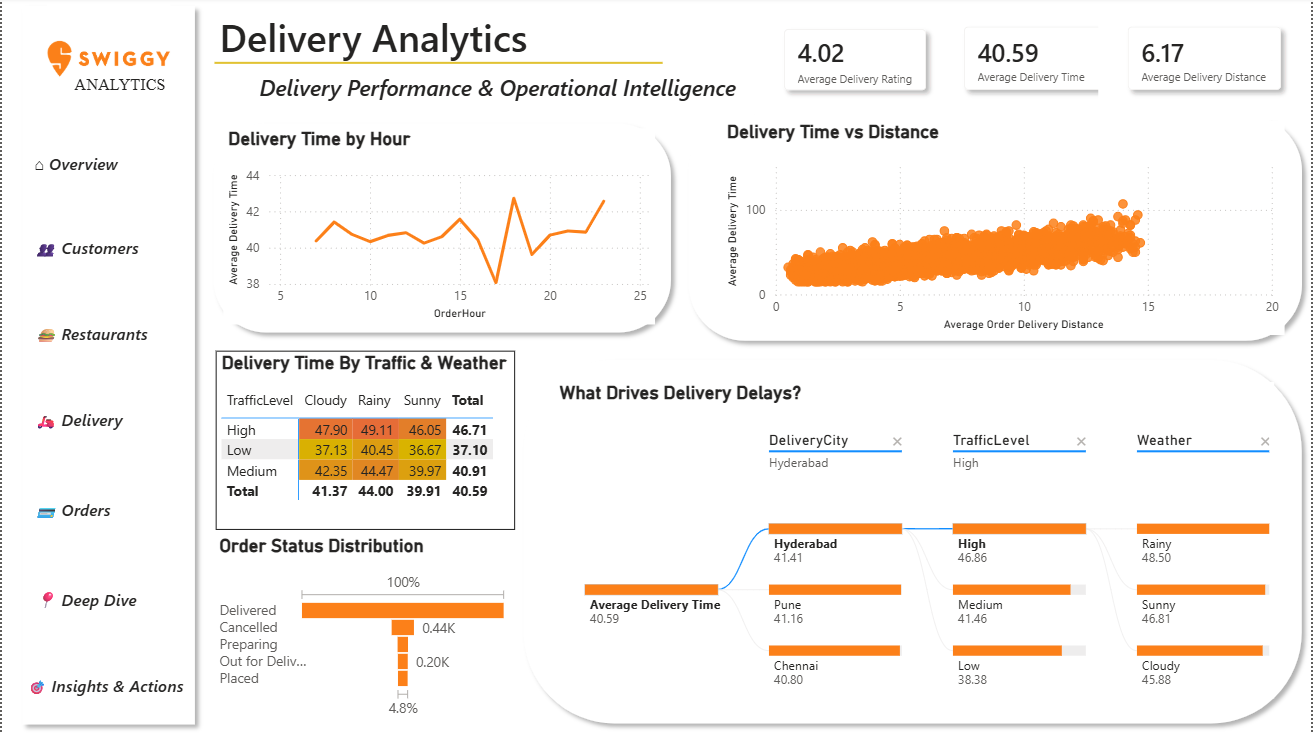

This screenshot's page, from the dashboard's own definition file:
{"tool":"powerbi","page":{"name":"Delivery Analytics","canvas":[1280,720],"ordinal":3},"visuals":[{"type":"shape","box":[501.4,345.8,779.2,373.6],"z":0},{"type":"shape","box":[662.5,106.9,618.1,238.9],"z":1000},{"type":"shape","box":[197.6,115.3,465.3,222.2],"z":2000},{"type":"shape","box":[11,0,186.6,720.4],"z":3000},{"type":"image","box":[0,0,208.6,120.8],"z":4000},{"type":"textbox","box":[65.9,72.7,101.5,35.7],"z":5000},{"type":"textbox","box":[27.4,146.8,116.6,31.6],"z":6000},{"type":"textbox","box":[27.4,229.2,119.4,31.6],"z":7000},{"type":"textbox","box":[27.4,312.9,123.5,34.3],"z":8000},{"type":"textbox","box":[27.4,397.9,105.7,37],"z":9000},{"type":"textbox","box":[27.4,485.8,98.8,38.4],"z":10000},{"type":"textbox","box":[27.4,573.6,115.3,38.4],"z":11000},{"type":"textbox","box":[208.3,8.3,379.2,63.9],"z":12000},{"type":"shape","box":[208.3,50,438.6,28.6],"z":13000},{"type":"textbox","box":[247.2,68.1,488.9,50],"z":14000},{"type":"cardVisual","fields":{"Data":["factorders.Average Delivery Time"]},"box":[912.5,0,194.9,120.8],"z":15000},{"type":"cardVisual","fields":{"Data":["factorders.Average Delivery Distance"]},"box":[1072.2,0,208.3,120.8],"z":16000},{"type":"cardVisual","fields":{"Data":["factorders.Average Delivery Rating"]},"box":[736.1,2.8,197.2,118.1],"z":17000},{"type":"lineChart","title":"Delivery Time by Hour","fields":{"Category":["factorders.OrderHour"],"Y":["factorders.Average Delivery Time"]},"box":[216.8,129,422.6,192.1],"z":18000},{"type":"pivotTable","title":"Delivery Time By Traffic & Weather","fields":{"Rows":["factorders.TrafficLevel"],"Columns":["factorders.Weather"],"Values":["factorders.Average Delivery Time"]},"box":[208.6,345.8,293.1,175],"z":19000},{"type":"scatterChart","title":"Delivery Time vs Distance","fields":{"X":["factorders.Average Order Delivery Distance"],"Y":["factorders.Average Delivery Time"],"Category":["factorders.OrderID"]},"box":[704.2,120.8,550,209.7],"z":20000},{"type":"funnel","title":"Order Status Distribution","fields":{"Category":["factorders.OrderStatus"],"Y":["CountNonNull(factorders.OrderID)"]},"box":[208.3,526.4,293.1,183.3],"z":21000},{"type":"decompositionTreeVisual","title":"What Drives Delivery Delays?","fields":{"Analyze":["factorders.Average Delivery Time"],"ExplainBy":["factorders.DeliveryCity","factorders.TrafficLevel","factorders.Weather","dimrider.VehicleType"]},"box":[540.3,376.4,704.2,309.7],"z":22000},{"type":"textbox","box":[20.6,657.3,166,32.9],"z":23000},{"type":"actionButton","box":[20.6,142.7,100,40],"z":23001},{"type":"actionButton","box":[30.2,220.9,112.5,39.8],"z":23002},{"type":"actionButton","box":[26.1,310.1,124.9,39.8],"z":23003},{"type":"actionButton","box":[27.4,481.6,100,40],"z":23004},{"type":"actionButton","box":[35.7,572.2,108.4,39.8],"z":23005},{"type":"actionButton","box":[26.1,653.2,160.5,39.8],"z":23006}]}

Visuals, with their boxes on the page's 1280x720 design canvas (x1, y1, x2, y2). These are canvas units, not pixel positions in the 1313x733 screenshot, which may show the page scaled, cropped or inside an application window:
shape: left=501, top=346, right=1281, bottom=719
shape: left=662, top=107, right=1281, bottom=346
shape: left=198, top=115, right=663, bottom=338
shape: left=11, top=0, right=198, bottom=720
image: left=0, top=0, right=209, bottom=121
textbox: left=66, top=73, right=167, bottom=108
textbox: left=27, top=147, right=144, bottom=178
textbox: left=27, top=229, right=147, bottom=261
textbox: left=27, top=313, right=151, bottom=347
textbox: left=27, top=398, right=133, bottom=435
textbox: left=27, top=486, right=126, bottom=524
textbox: left=27, top=574, right=143, bottom=612
textbox: left=208, top=8, right=588, bottom=72
shape: left=208, top=50, right=647, bottom=79
textbox: left=247, top=68, right=736, bottom=118
cardVisual - factorders.Average Delivery Time: left=912, top=0, right=1107, bottom=121
cardVisual - factorders.Average Delivery Distance: left=1072, top=0, right=1280, bottom=121
cardVisual - factorders.Average Delivery Rating: left=736, top=3, right=933, bottom=121
"Delivery Time by Hour" lineChart: left=217, top=129, right=639, bottom=321
"Delivery Time By Traffic & Weather" pivotTable: left=209, top=346, right=502, bottom=521
"Delivery Time vs Distance" scatterChart: left=704, top=121, right=1254, bottom=330
"Order Status Distribution" funnel: left=208, top=526, right=501, bottom=710
"What Drives Delivery Delays?" decompositionTreeVisual: left=540, top=376, right=1244, bottom=686
textbox: left=21, top=657, right=187, bottom=690
actionButton: left=21, top=143, right=121, bottom=183
actionButton: left=30, top=221, right=143, bottom=261
actionButton: left=26, top=310, right=151, bottom=350
actionButton: left=27, top=482, right=127, bottom=522
actionButton: left=36, top=572, right=144, bottom=612
actionButton: left=26, top=653, right=187, bottom=693
